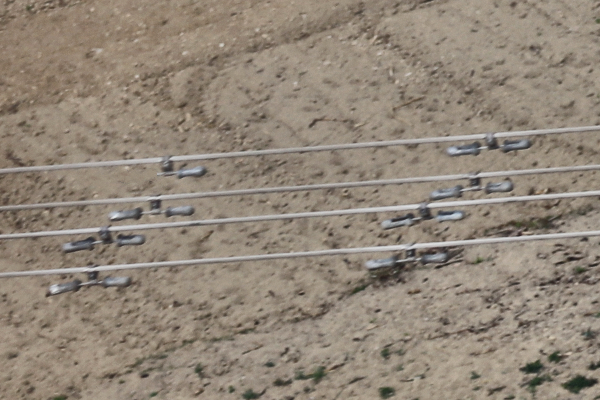damper: (41, 263, 134, 298), (104, 190, 198, 223), (427, 167, 517, 200), (362, 239, 450, 272), (57, 224, 149, 254), (443, 129, 533, 159), (380, 201, 465, 231)
damper_defect: (154, 152, 209, 180)
